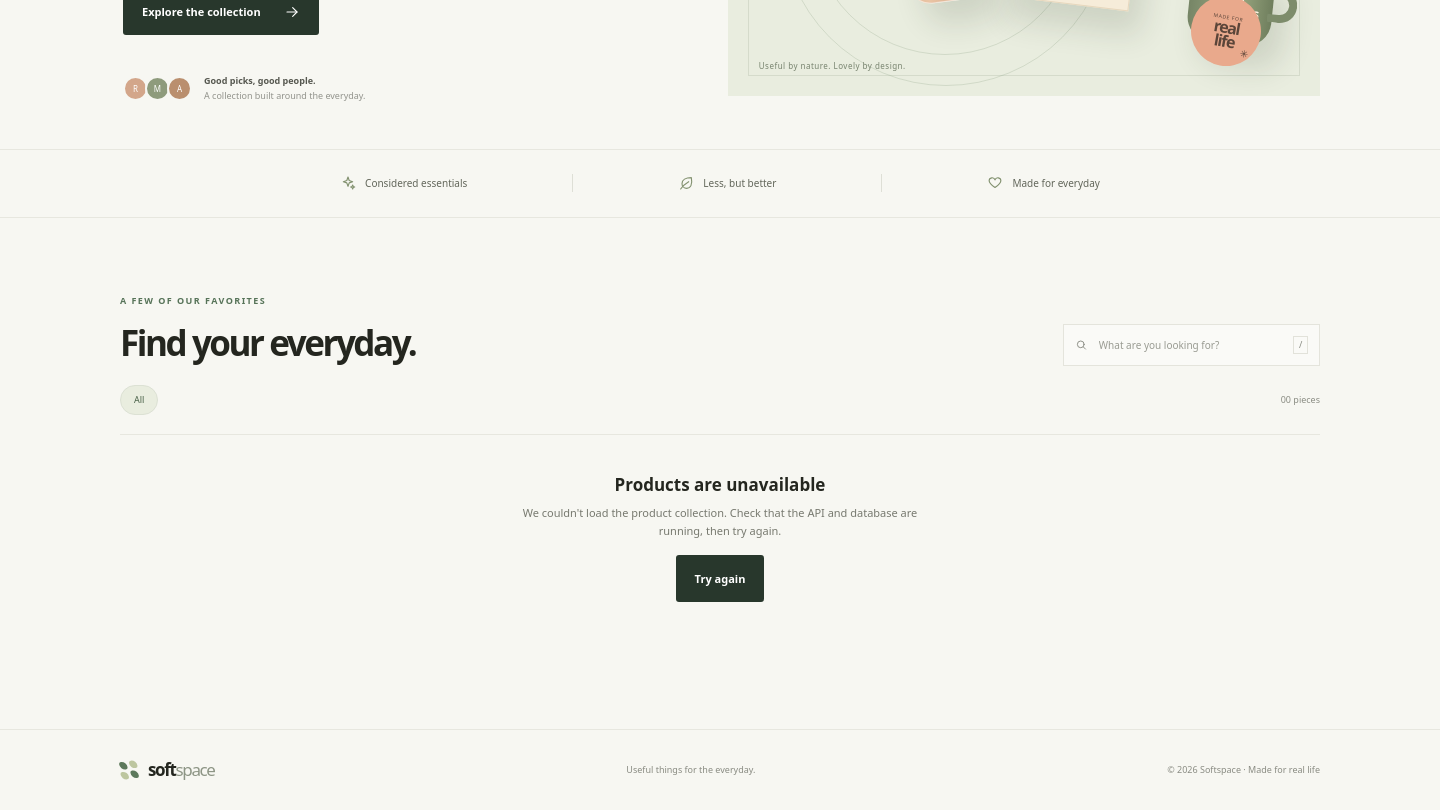
DevOpsMart storefront › shows an API error and retries product loading
(page scrolled)
Expected: the message shows "We couldn't load the product collection.", top-left (523, 505), bottom-right (917, 538)
Click the button "Try again": (720, 579) top-left (676, 555), bottom-right (764, 602)
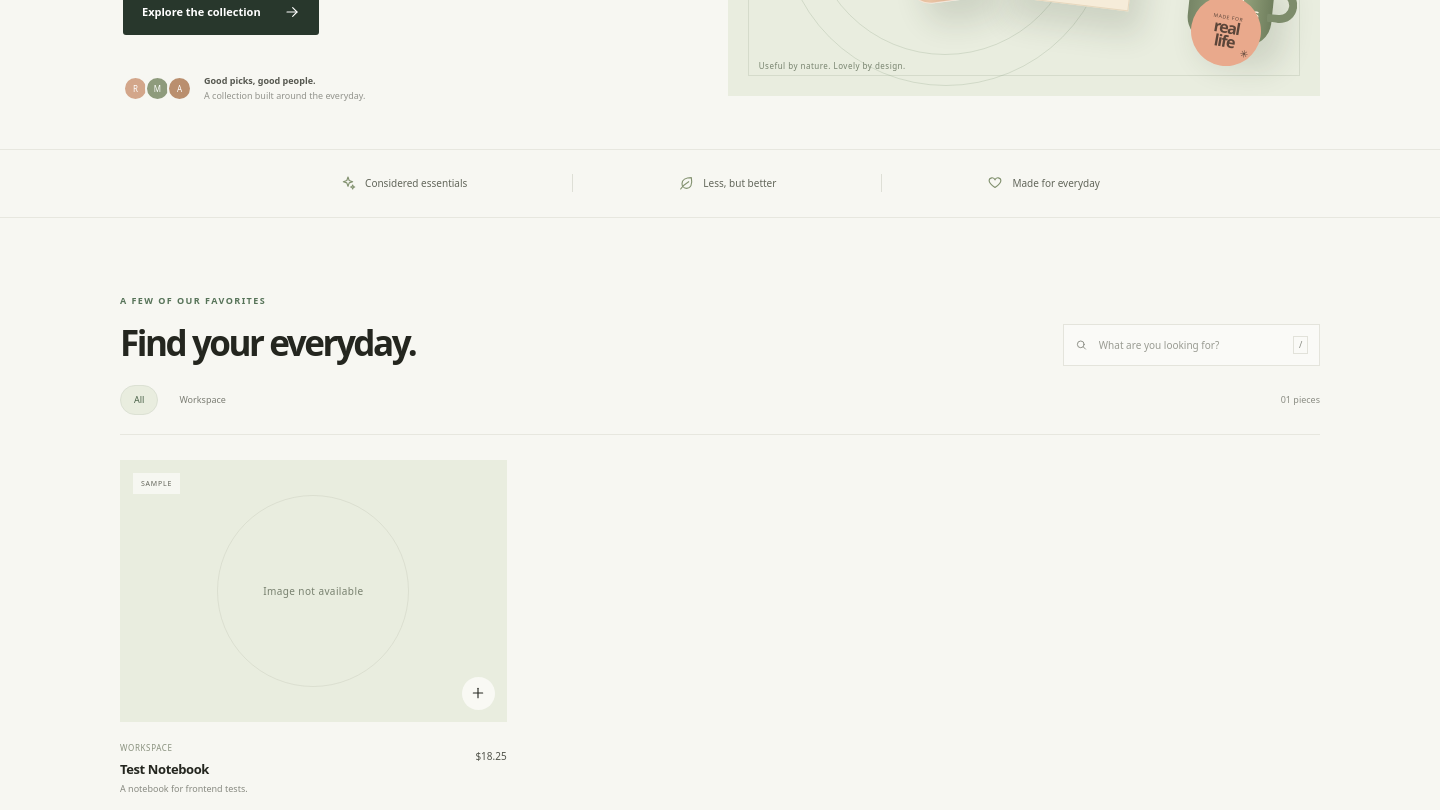
Result: the heading "Test Notebook" is shown at top-left (120, 760), bottom-right (209, 778)
